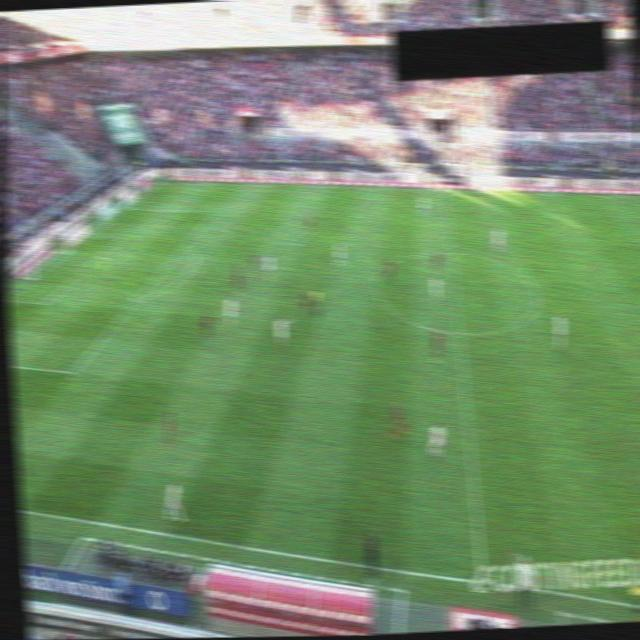bigarea_bottom_inner: (66, 366, 81, 378)
bigarea_top_inner: (208, 205, 223, 217)
bigarea_top_outter: (118, 201, 133, 212)
bottom_arc_area_intersection: (130, 293, 144, 303)
corner: (152, 175, 169, 187)
halfcircle_bottom: (450, 327, 466, 337)
halfcircle_top: (443, 245, 458, 257)
midline_bottom_intersection: (468, 570, 497, 592)
midline_top_intersection: (438, 184, 452, 196)
smallarea_bottom_inner: (37, 295, 52, 307)
smallarea_top_inner: (113, 230, 128, 241)
smallarea_top_outter: (81, 229, 97, 240)
top_arc_area_intersection: (178, 238, 193, 250)
